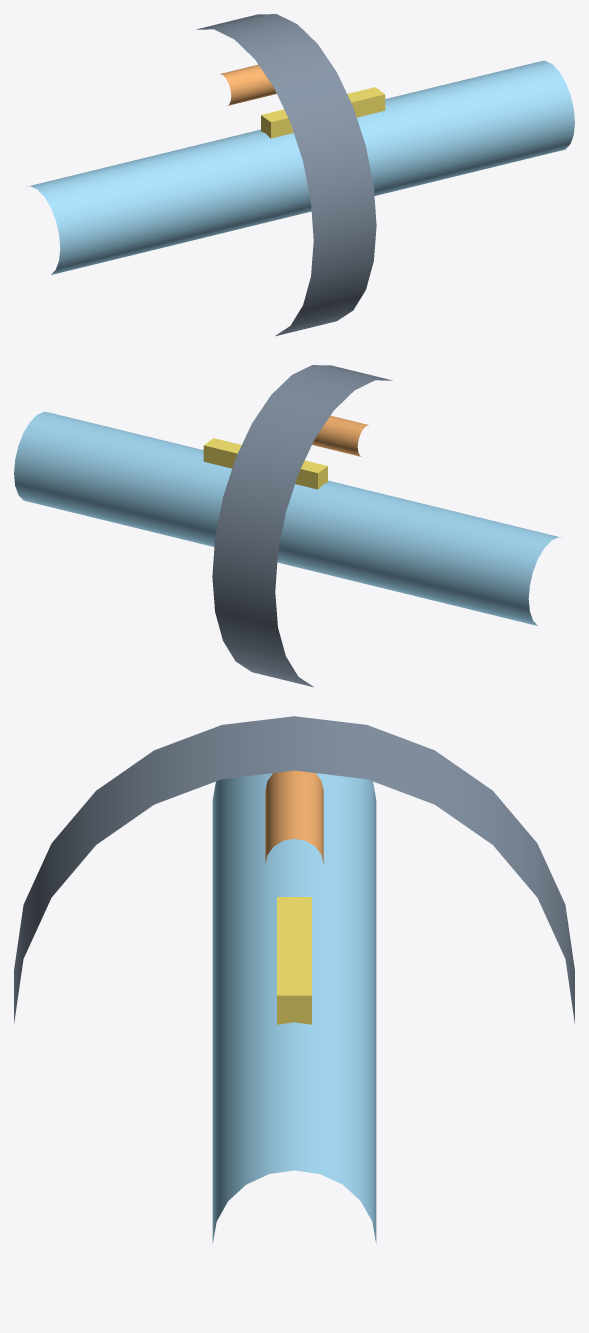
File: shaft_keys_flange_coupling.glb
3 views of the same model, one above another, from view 1: azimuth 30°, elevation 25°; view 2: azimuth 150°, elevation 25°; view 3: azimuth 270°, elevation 25° (orthographic). The views are drawn at different scales.
Visible parts, largest first — view 1: TransmissionDriveShaft, ProtectedFlangeCouplingHalf, RectangularSunkKey, CouplingBoltCircleArray; view 2: TransmissionDriveShaft, ProtectedFlangeCouplingHalf, RectangularSunkKey, CouplingBoltCircleArray; view 3: TransmissionDriveShaft, ProtectedFlangeCouplingHalf, RectangularSunkKey, CouplingBoltCircleArray.
Part boxes in pixels (box(x1,y1,x2,y2)): TransmissionDriveShaft: box(26, 60, 574, 274); ProtectedFlangeCouplingHalf: box(196, 14, 376, 336); RectangularSunkKey: box(261, 87, 385, 138); CouplingBoltCircleArray: box(220, 64, 276, 105); TransmissionDriveShaft: box(14, 411, 562, 625); ProtectedFlangeCouplingHalf: box(212, 365, 392, 687); RectangularSunkKey: box(203, 438, 327, 489); CouplingBoltCircleArray: box(312, 415, 368, 456); TransmissionDriveShaft: box(212, 773, 376, 1243); ProtectedFlangeCouplingHalf: box(14, 716, 574, 1023); RectangularSunkKey: box(277, 897, 311, 1024); CouplingBoltCircleArray: box(265, 770, 323, 863).
Bounding box in the file's own units: 1.8 × 0.96 × 0.96.
